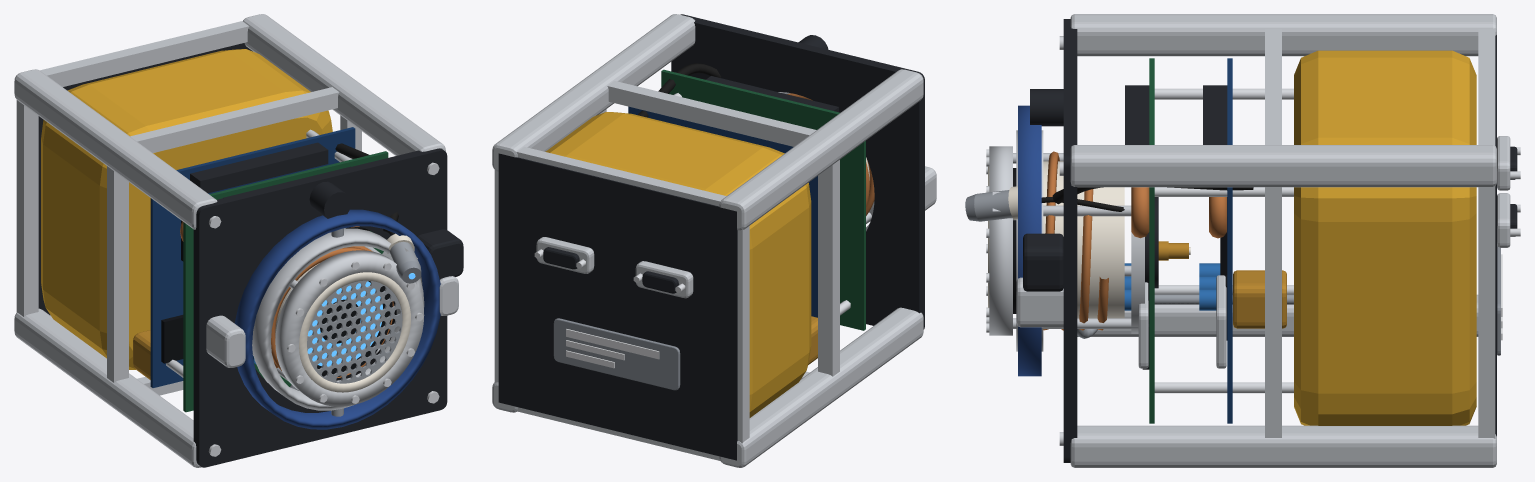
The model's file is prop-ion.glb.
The picture shows the model from 3 angles, left to right: view 1: azimuth 30°, elevation 25°; view 2: azimuth 150°, elevation 25°; view 3: azimuth 270°, elevation 25°; orthographic projection. The views are drawn at different scales.
Visible parts, largest first — view 1: iodine-tank, front-plate, gimbal-outer, rail--11, rail--1-1, rail-11, flange, ppu-board-0-board, screen-grid, gimbal-inner, frame-y-0-1, frame-y-1-1 (+17 smaller); view 2: back-plate, iodine-tank, front-plate, rail--11, ppu-board-1-board, rail--1-1, rail-11, frame-y-1-1, frame-x-11, label-plate, frame-y-0-1, frame-x-01 (+11 smaller); view 3: iodine-tank, rail-11, rail-1-1, rail--11, front-plate, discharge-chamber, frame-y-01, gimbal-outer, frame-y-11, flange, rail--1-1, gimbal-motor-x (+24 smaller).
Part boxes in pixels (x1=…): iodine-tank: x1=41, y1=49, x2=332, y2=369; front-plate: x1=193, y1=148, x2=447, y2=467; gimbal-outer: x1=234, y1=209, x2=440, y2=429; rail--11: x1=14, y1=69, x2=217, y2=229; rail--1-1: x1=14, y1=308, x2=201, y2=467; rail-11: x1=243, y1=14, x2=445, y2=155; flange: x1=275, y1=250, x2=424, y2=406; ppu-board-0-board: x1=150, y1=127, x2=355, y2=387; screen-grid: x1=307, y1=280, x2=402, y2=383; gimbal-inner: x1=252, y1=228, x2=424, y2=410; frame-y-0-1: x1=16, y1=100, x2=38, y2=316; frame-y-1-1: x1=107, y1=166, x2=128, y2=382; back-plate: x1=498, y1=153, x2=737, y2=460; iodine-tank: x1=545, y1=112, x2=811, y2=417; front-plate: x1=671, y1=14, x2=924, y2=329; rail--11: x1=719, y1=69, x2=923, y2=230; ppu-board-1-board: x1=661, y1=69, x2=865, y2=330; rail--1-1: x1=719, y1=307, x2=923, y2=467; rail-11: x1=492, y1=14, x2=695, y2=171; frame-y-1-1: x1=818, y1=160, x2=839, y2=376; frame-x-11: x1=607, y1=81, x2=816, y2=146; label-plate: x1=553, y1=318, x2=680, y2=390; frame-y-0-1: x1=737, y1=226, x2=749, y2=443; frame-x-01: x1=516, y1=146, x2=726, y2=206; iodine-tank: x1=1294, y1=50, x2=1476, y2=425; rail-11: x1=1070, y1=145, x2=1496, y2=187; rail-1-1: x1=1070, y1=425, x2=1496, y2=467; rail--11: x1=1070, y1=14, x2=1496, y2=56; front-plate: x1=1063, y1=19, x2=1077, y2=462; discharge-chamber: x1=1043, y1=161, x2=1124, y2=318; frame-y-01: x1=1478, y1=186, x2=1495, y2=438; gimbal-outer: x1=1018, y1=105, x2=1041, y2=376; frame-y-11: x1=1265, y1=187, x2=1281, y2=437; flange: x1=989, y1=146, x2=1012, y2=335; rail--1-1: x1=1077, y1=294, x2=1478, y2=336; gimbal-motor-x: x1=1023, y1=233, x2=1063, y2=291.
Bounding box in the file's own units: 0.1024 × 0.1024 × 0.1641.
